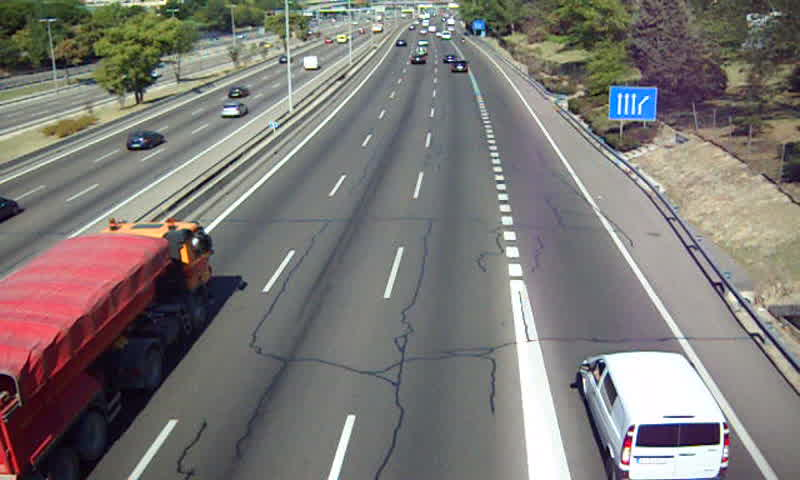car: (450, 60, 469, 75)
truck: (2, 221, 210, 480)
van: (583, 352, 728, 480)
